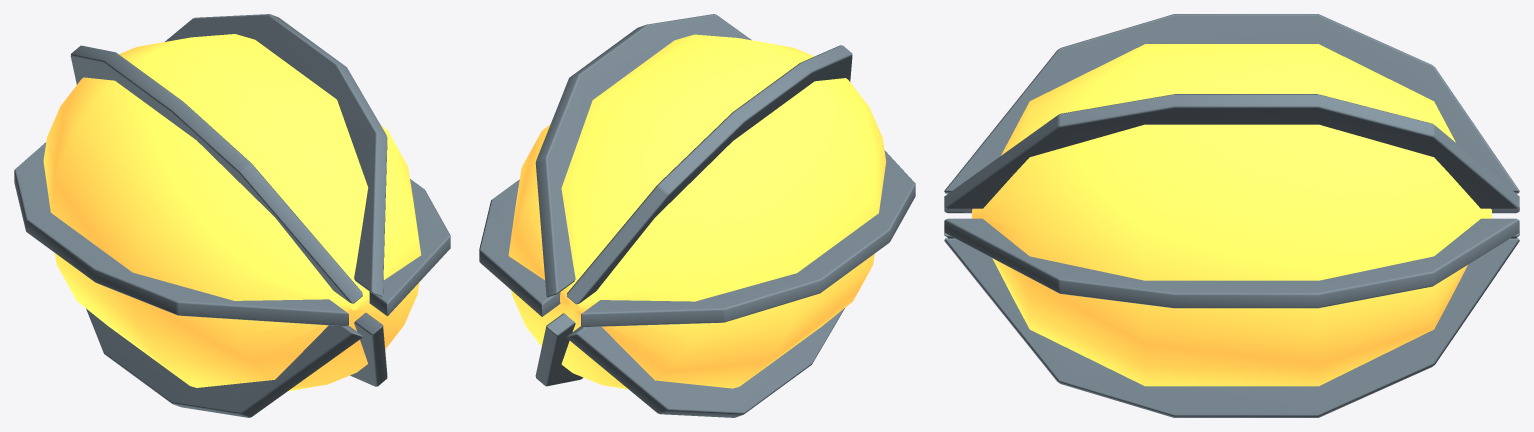
The model's file is zb_pyrocyst.glb.
3 views of the same model, side by side, from view 1: azimuth 30°, elevation 25°; view 2: azimuth 150°, elevation 25°; view 3: azimuth 270°, elevation 25° (orthographic). The views are drawn at different scales.
Parts seen in each view (by area): view 1: zb_pyrocyst / Tracer ember, zb_pyrocyst / Machined titanium; view 2: zb_pyrocyst / Tracer ember, zb_pyrocyst / Machined titanium; view 3: zb_pyrocyst / Tracer ember, zb_pyrocyst / Machined titanium.
Boxes of the visible parts, left/top/right/bottom form: zb_pyrocyst / Tracer ember: left=43, top=34, right=420, bottom=391; zb_pyrocyst / Machined titanium: left=14, top=14, right=450, bottom=417; zb_pyrocyst / Tracer ember: left=508, top=34, right=886, bottom=389; zb_pyrocyst / Machined titanium: left=479, top=14, right=915, bottom=417; zb_pyrocyst / Tracer ember: left=972, top=44, right=1491, bottom=386; zb_pyrocyst / Machined titanium: left=944, top=14, right=1519, bottom=417.
Size of the model in its own units: 14 by 12.35 by 19.91.
